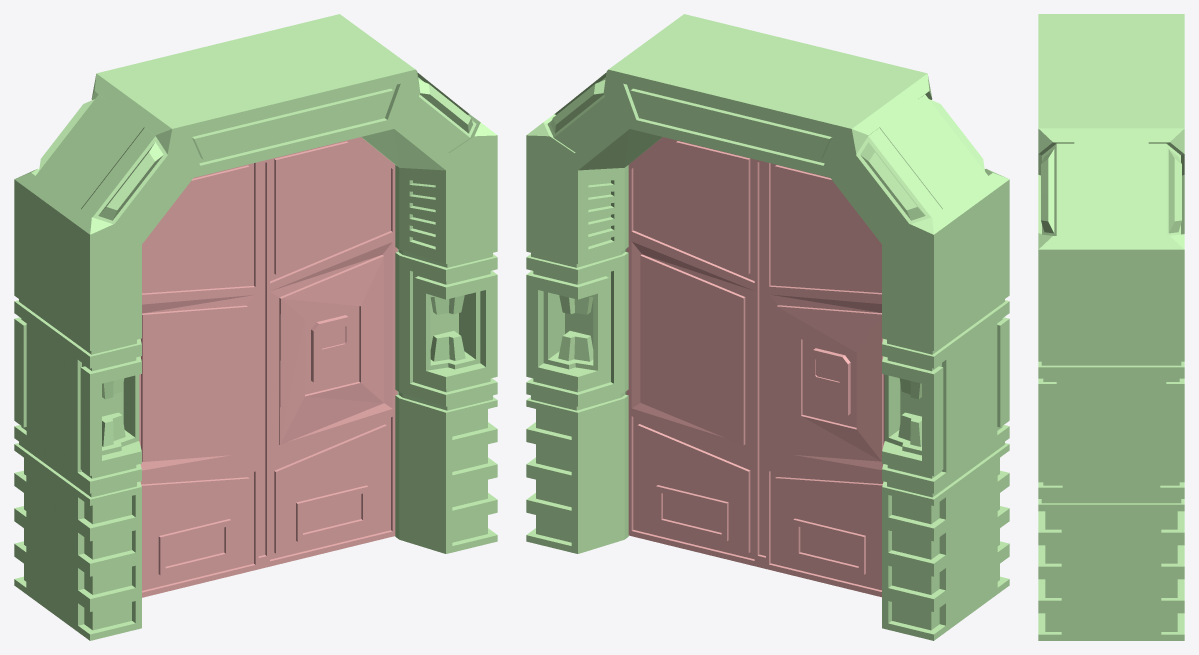
File: Adjusted Door.fbx
The picture shows the model from 3 angles, left to right: view 1: azimuth 30°, elevation 25°; view 2: azimuth 150°, elevation 25°; view 3: azimuth 270°, elevation 25°; orthographic projection. The views are drawn at different scales.
Visible parts, largest first — view 1: polySurface2, polySurface1; view 2: polySurface2, polySurface1; view 3: polySurface2.
Boxes of the visible parts, x1,y1,x2,y2 form: polySurface2: [14, 14, 497, 640]; polySurface1: [139, 137, 397, 597]; polySurface2: [526, 14, 1009, 640]; polySurface1: [626, 137, 884, 597]; polySurface2: [1038, 14, 1184, 640].
Size of the model in its own units: 226 by 260 by 72.76.
